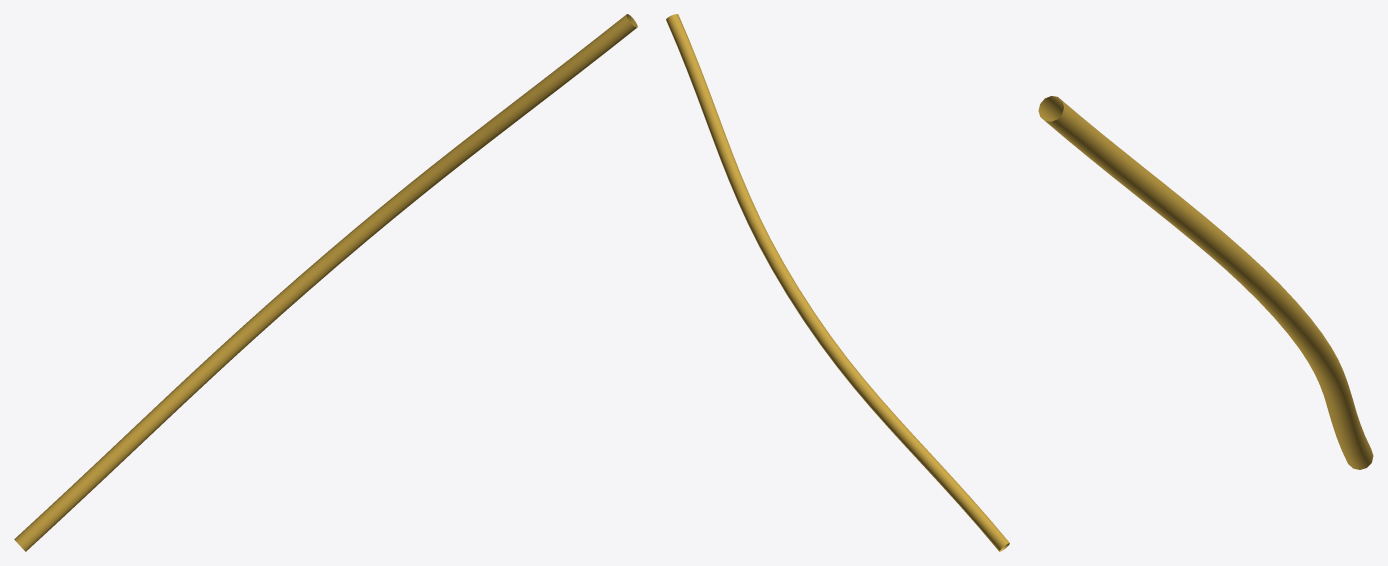
3 renders of one model, left to right at view 1: azimuth 30°, elevation 25°; view 2: azimuth 150°, elevation 25°; view 3: azimuth 270°, elevation 25°, orthographic. The views are drawn at different scales.
Parts seen in each view (by area): view 1: 右侧隐神经髌下支; view 2: 右侧隐神经髌下支; view 3: 右侧隐神经髌下支.
Boxes of the visible parts, left/top/right/bottom form: 右侧隐神经髌下支: left=14, top=14, right=637, bottom=551; 右侧隐神经髌下支: left=666, top=14, right=1009, bottom=551; 右侧隐神经髌下支: left=1038, top=96, right=1373, bottom=469.
Bounding box in the file's own units: 0.0514 × 0.0451 × 0.0179.
